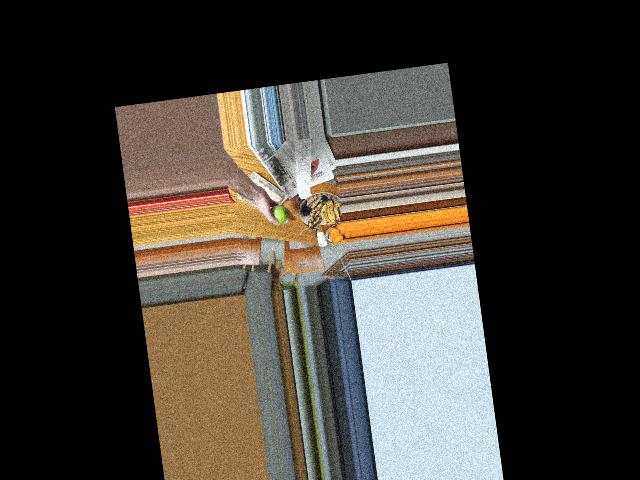apple: (266, 201, 289, 227)
